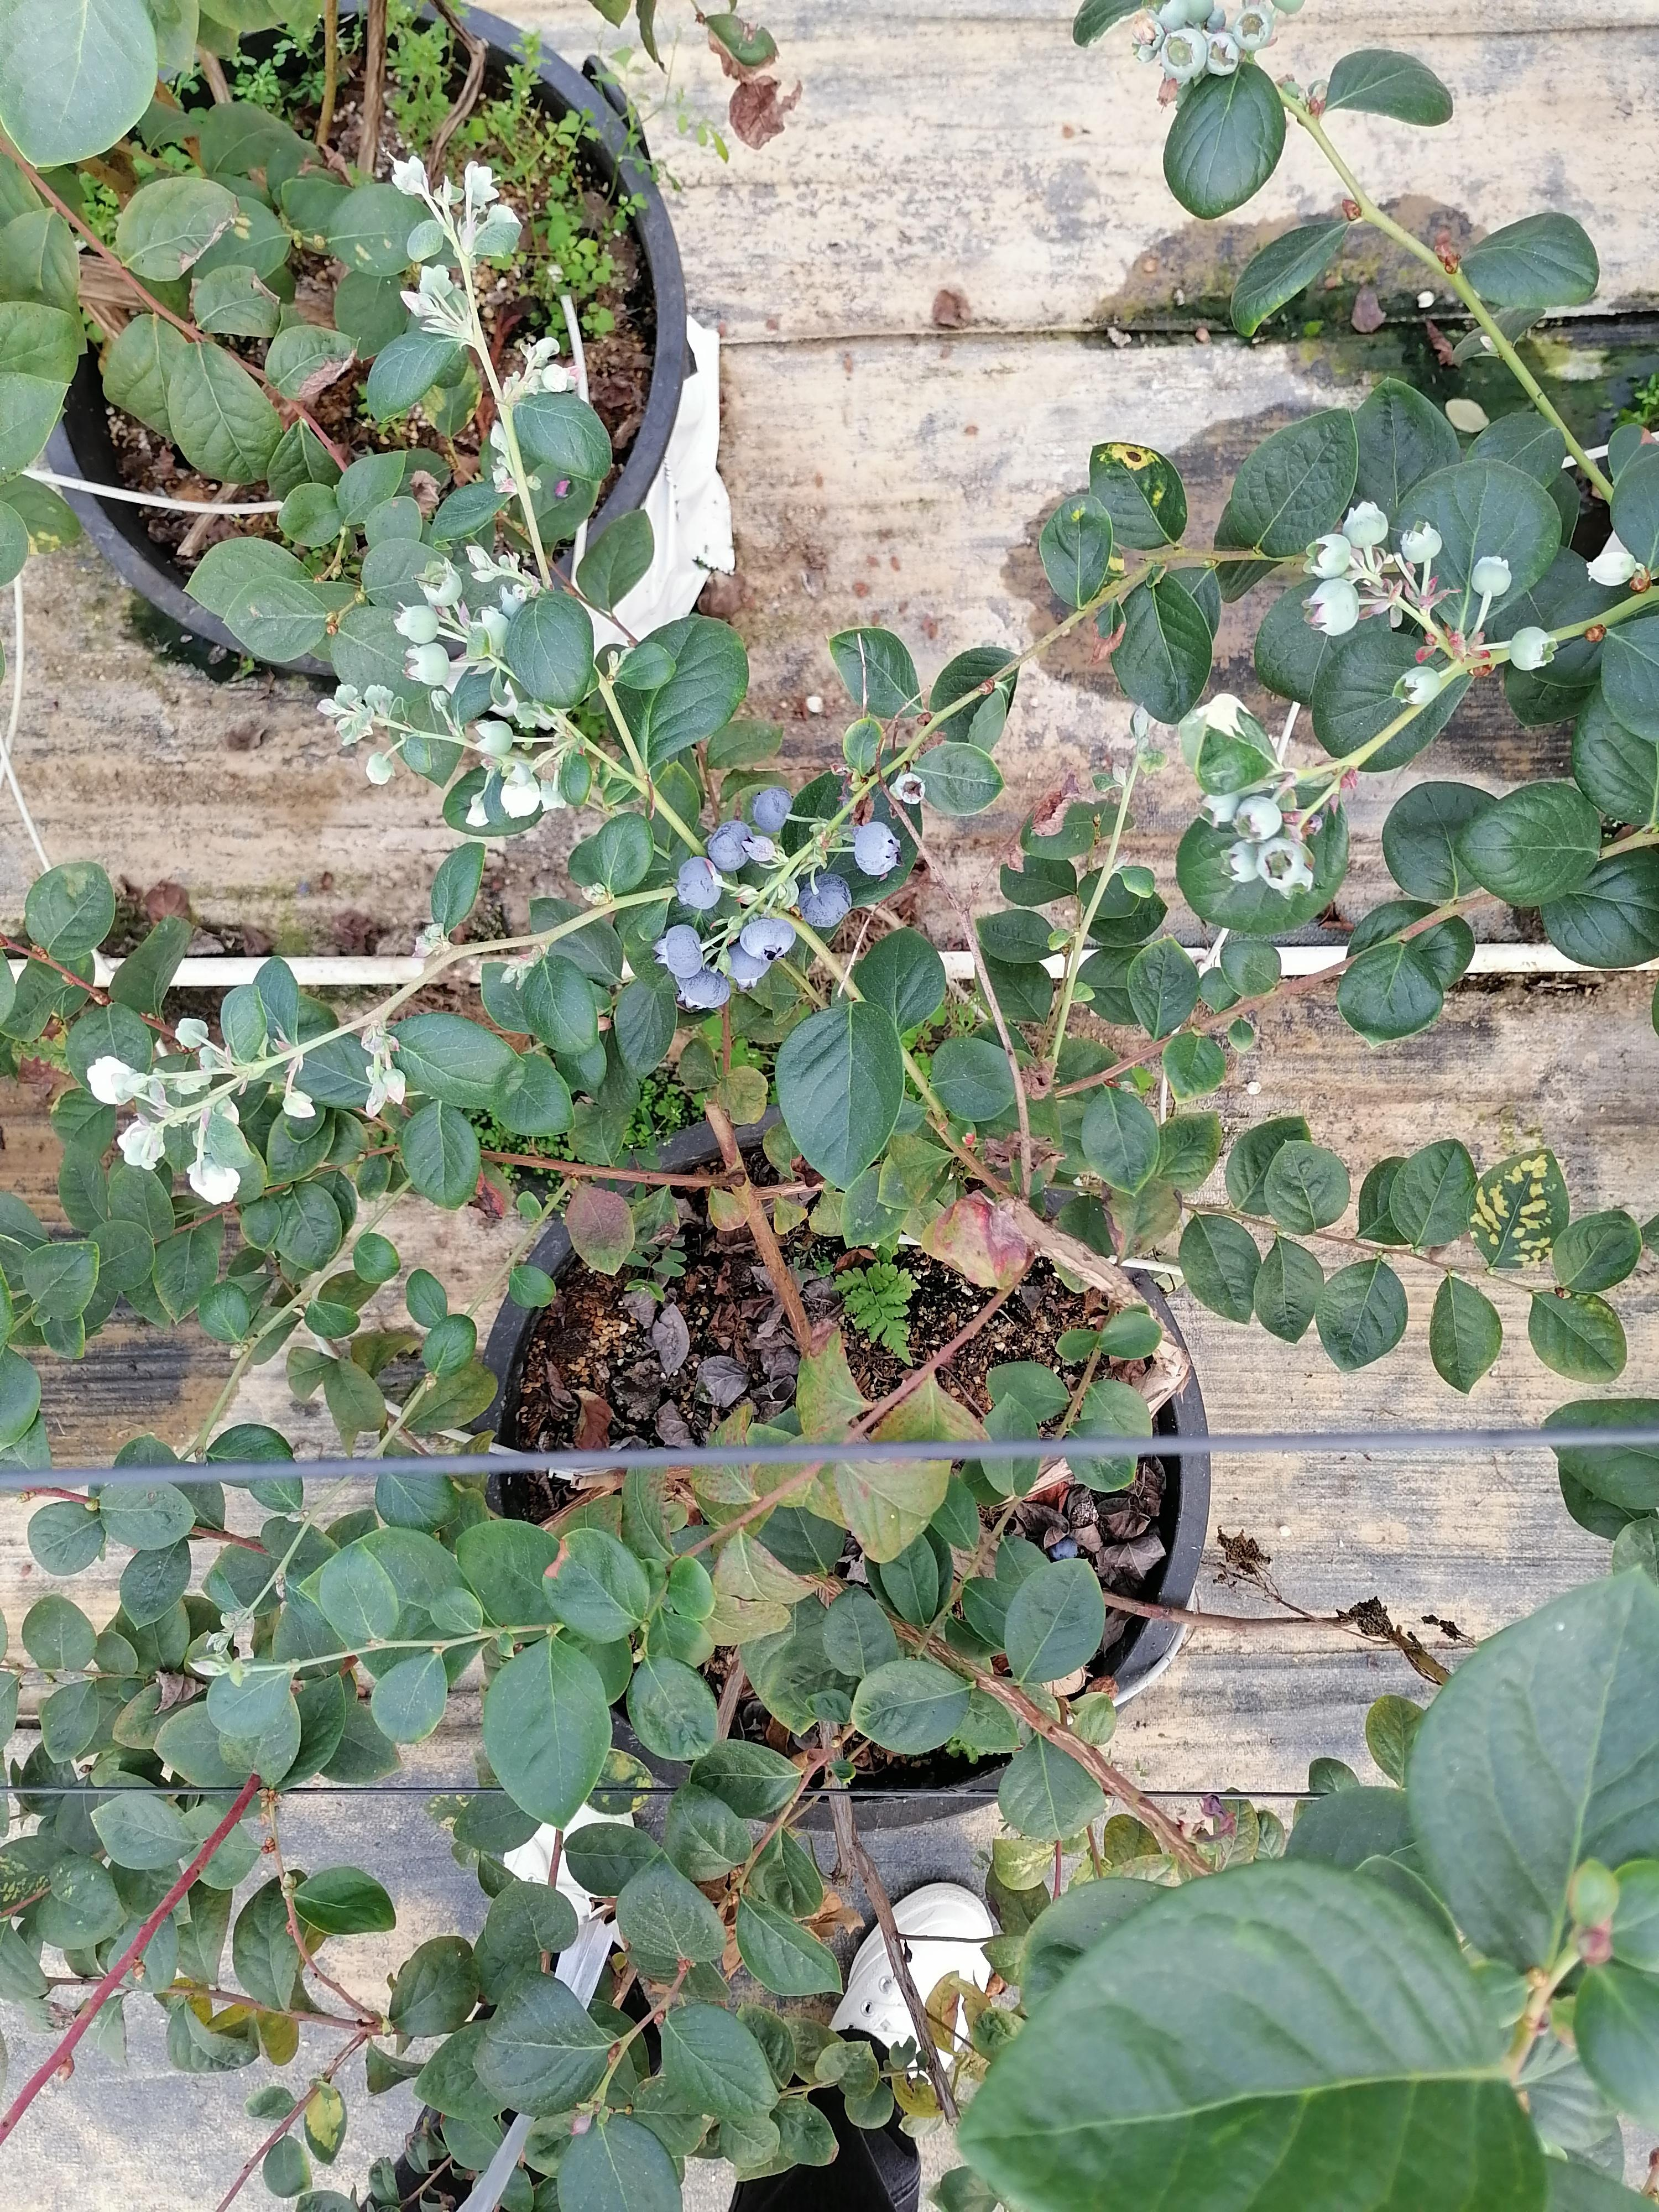ripe-blueberries: (798, 873, 852, 928), (652, 925, 702, 979), (674, 857, 723, 911), (854, 822, 903, 876), (739, 916, 796, 961), (721, 942, 772, 991), (676, 963, 730, 1008), (708, 820, 753, 873), (751, 786, 793, 833)
